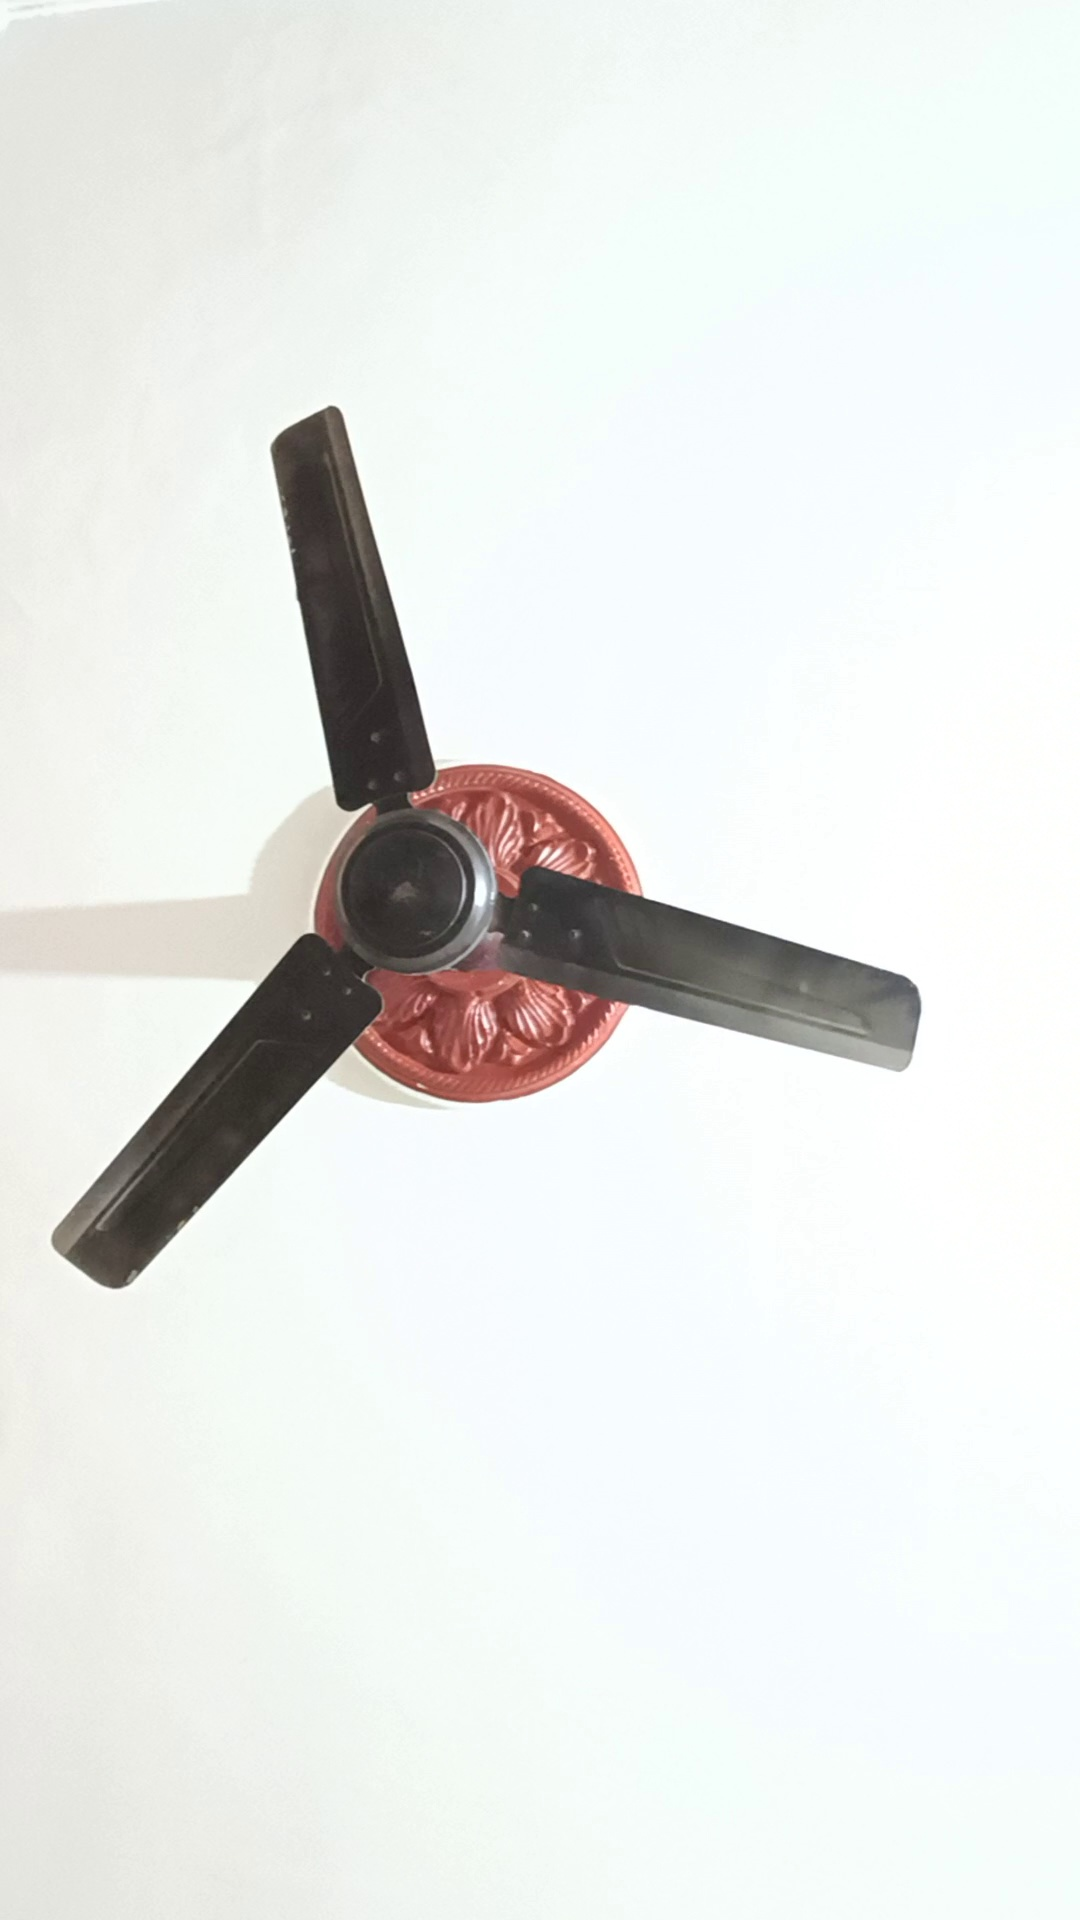fan: (46, 404, 959, 1307)
